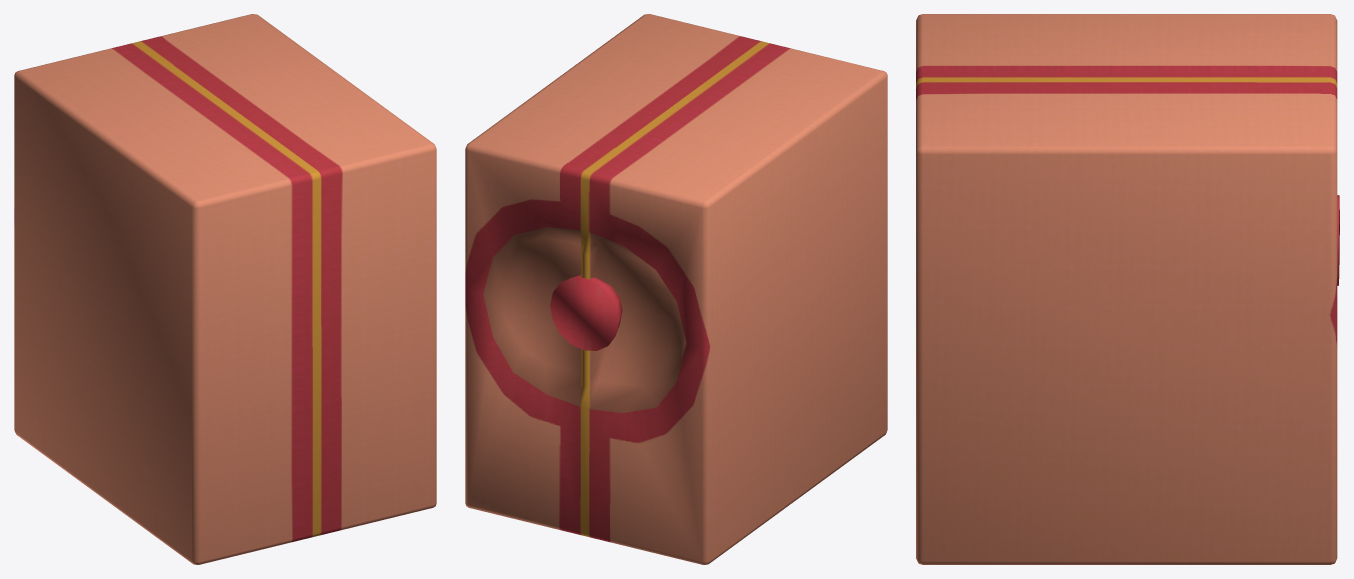
File: noktah.fbx
3 views of the same model, side by side, from view 1: azimuth 30°, elevation 25°; view 2: azimuth 150°, elevation 25°; view 3: azimuth 270°, elevation 25° (orthographic). The views are drawn at different scales.
Parts seen in each view (by area): view 1: Noktah; view 2: Noktah; view 3: Noktah.
Part boxes in pixels (x1=…): Noktah: x1=14, y1=14, x2=436, y2=564; Noktah: x1=465, y1=14, x2=887, y2=564; Noktah: x1=916, y1=14, x2=1339, y2=564.
Size of the model in its own units: 136 by 194 by 177.
